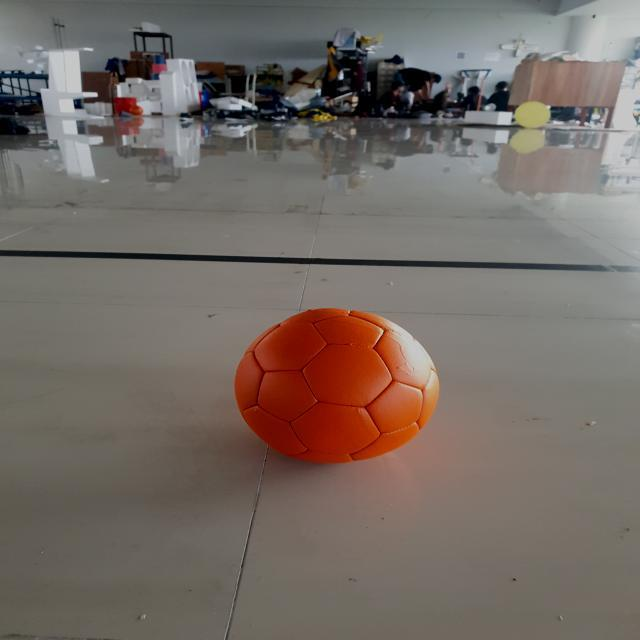bola: (229, 300, 451, 473)
